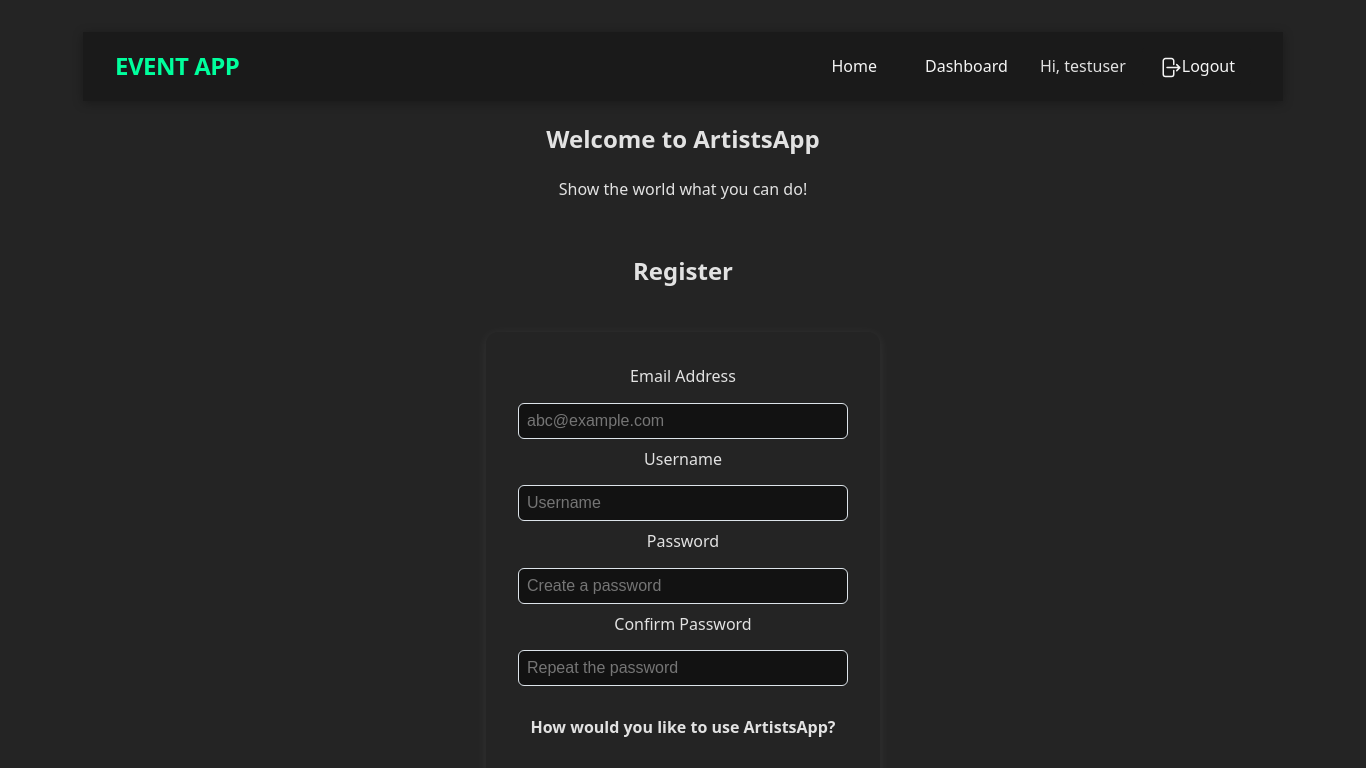
Register › write on input fields and fail register
Type on fields
Type "testuser@gmail.com" into the field with placeholder "abc@example.com" at [683, 421], box [518,403,848,439]
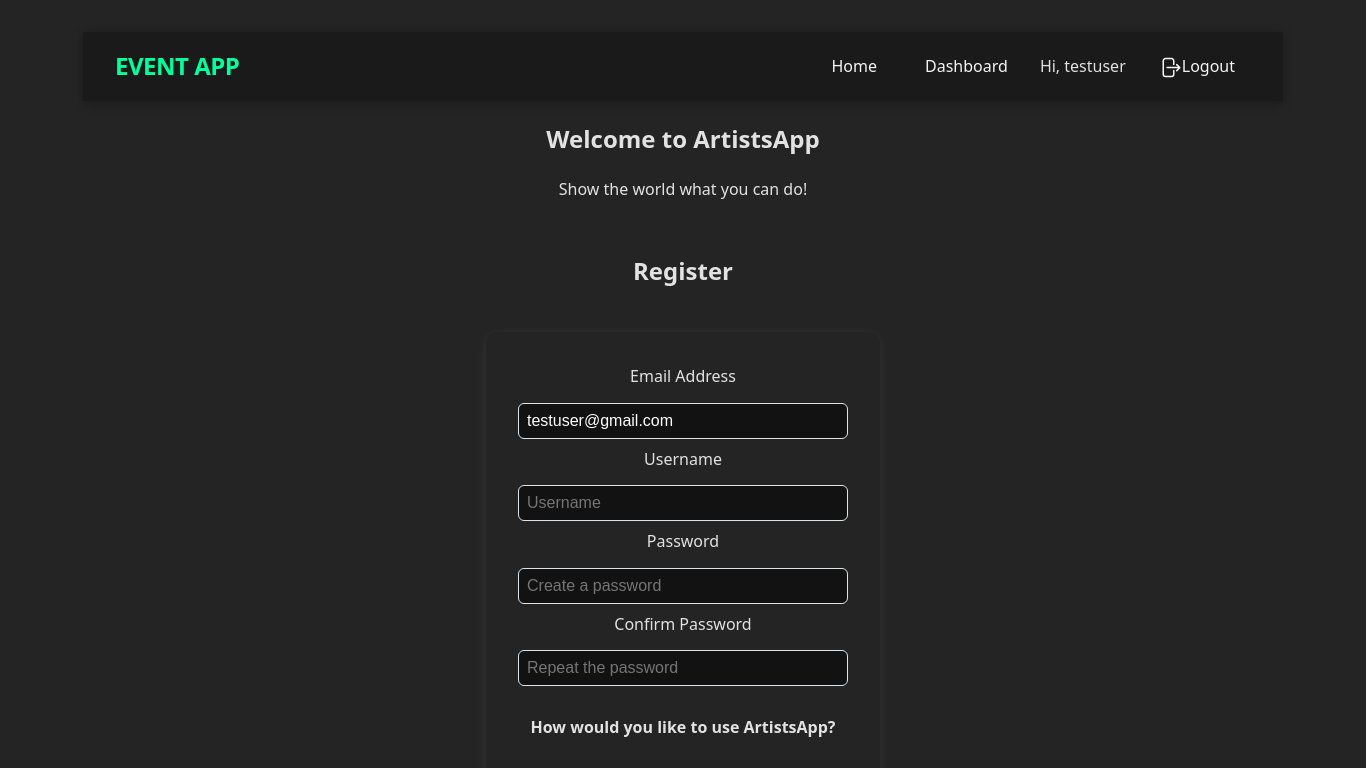
Type "testuser" into the field with placeholder "Username" at [683, 503], box [518,485,848,521]
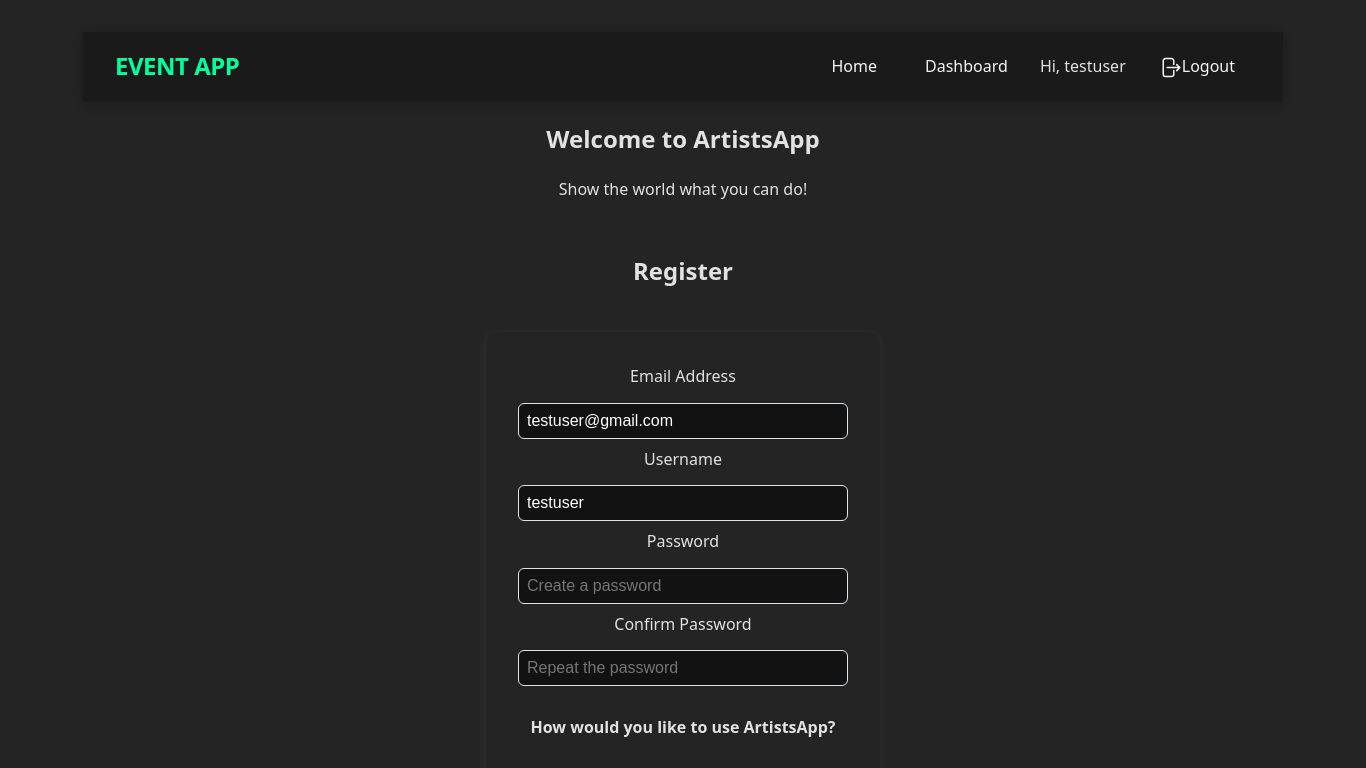
Type "1234" into the password field with placeholder "Create a password" at [683, 586], box [518,568,848,604]
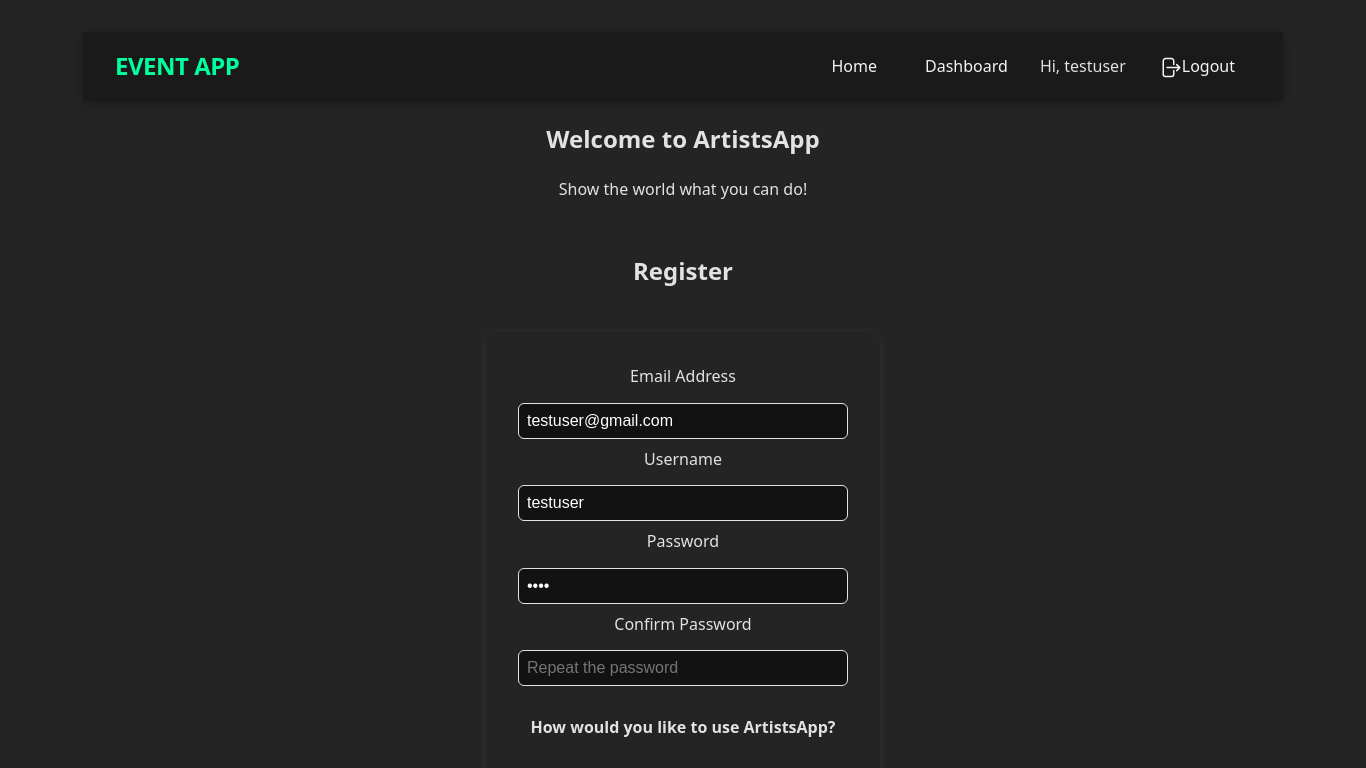
Type "1234" into the password field with placeholder "Repeat the password" at [683, 668], box [518,650,848,686]
(page scrolled)
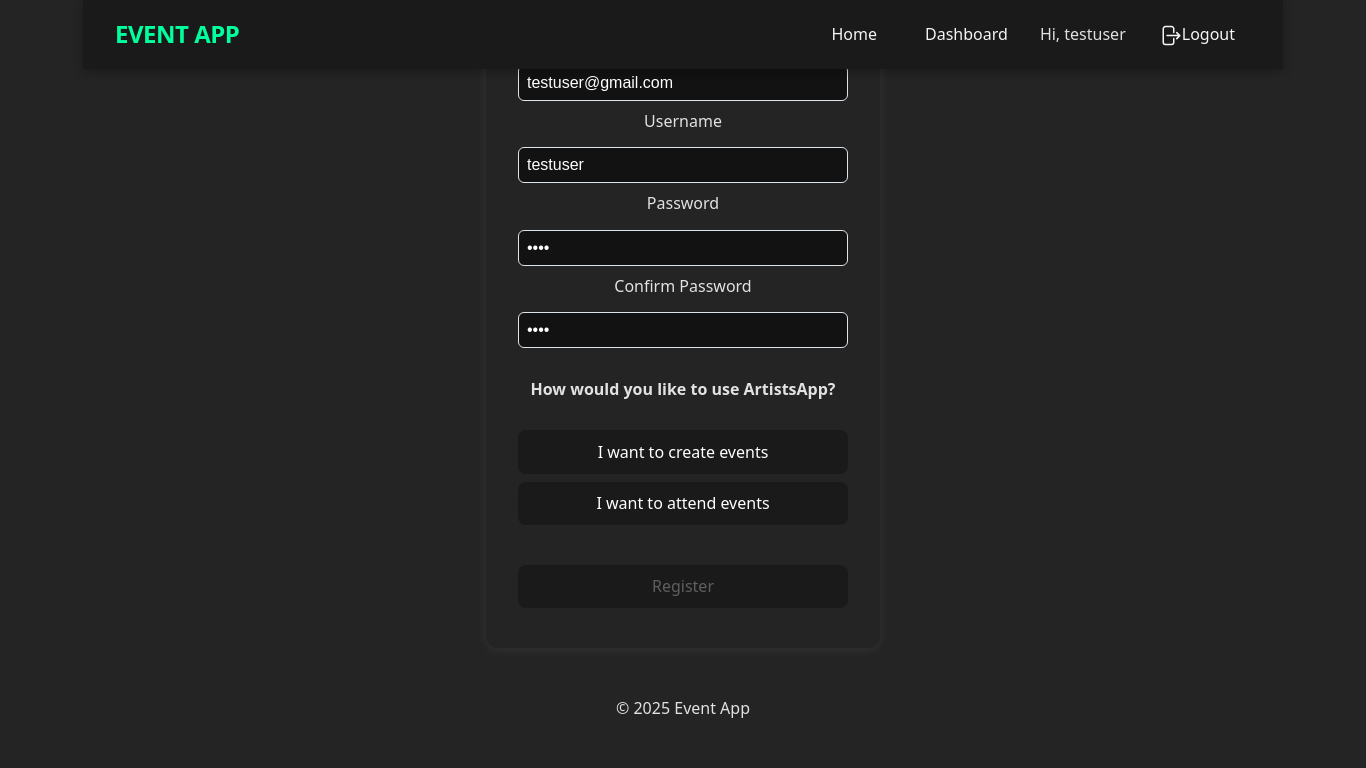
Click the button with aria-label "attendee" at [683, 503], box [518,482,848,525]
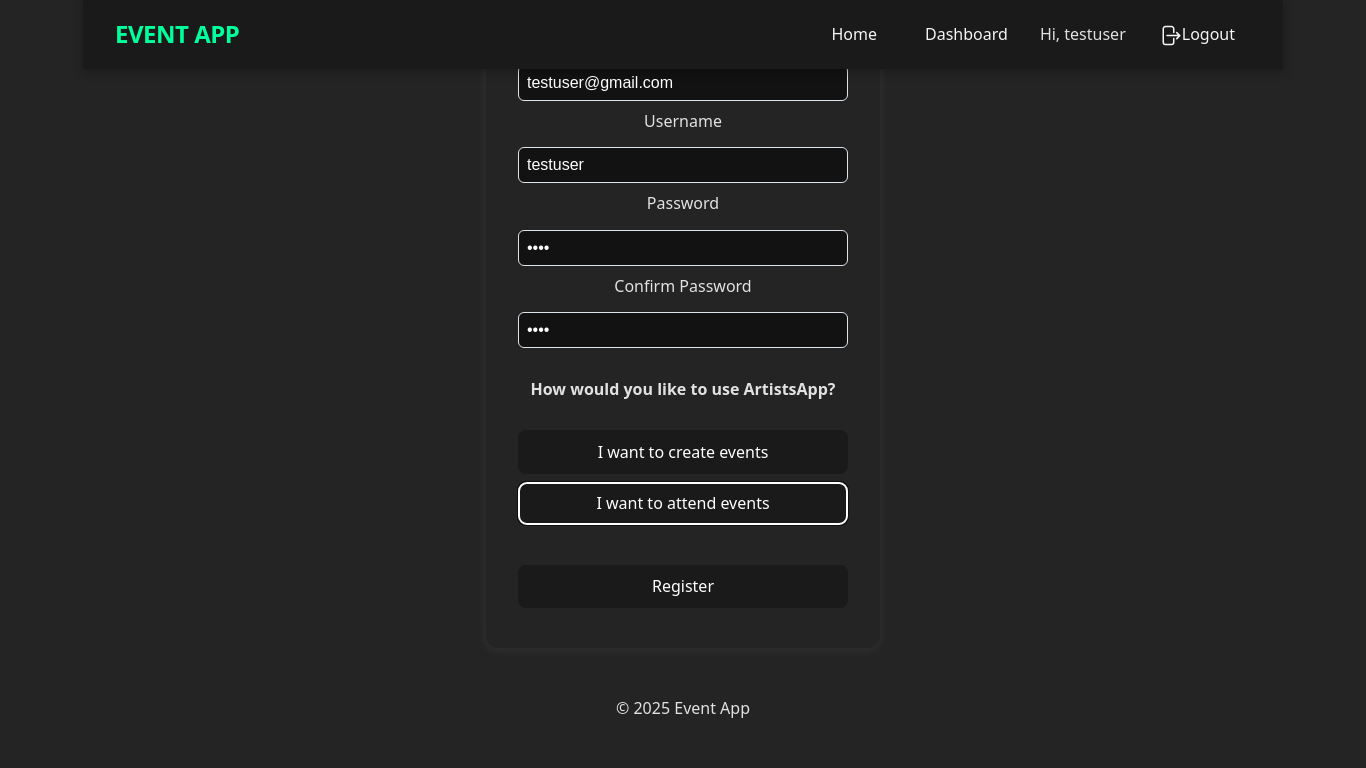
Check: the button "Register" is enabled
Click on register button
Click the button "Register" at [683, 586], box [518,565,848,608]
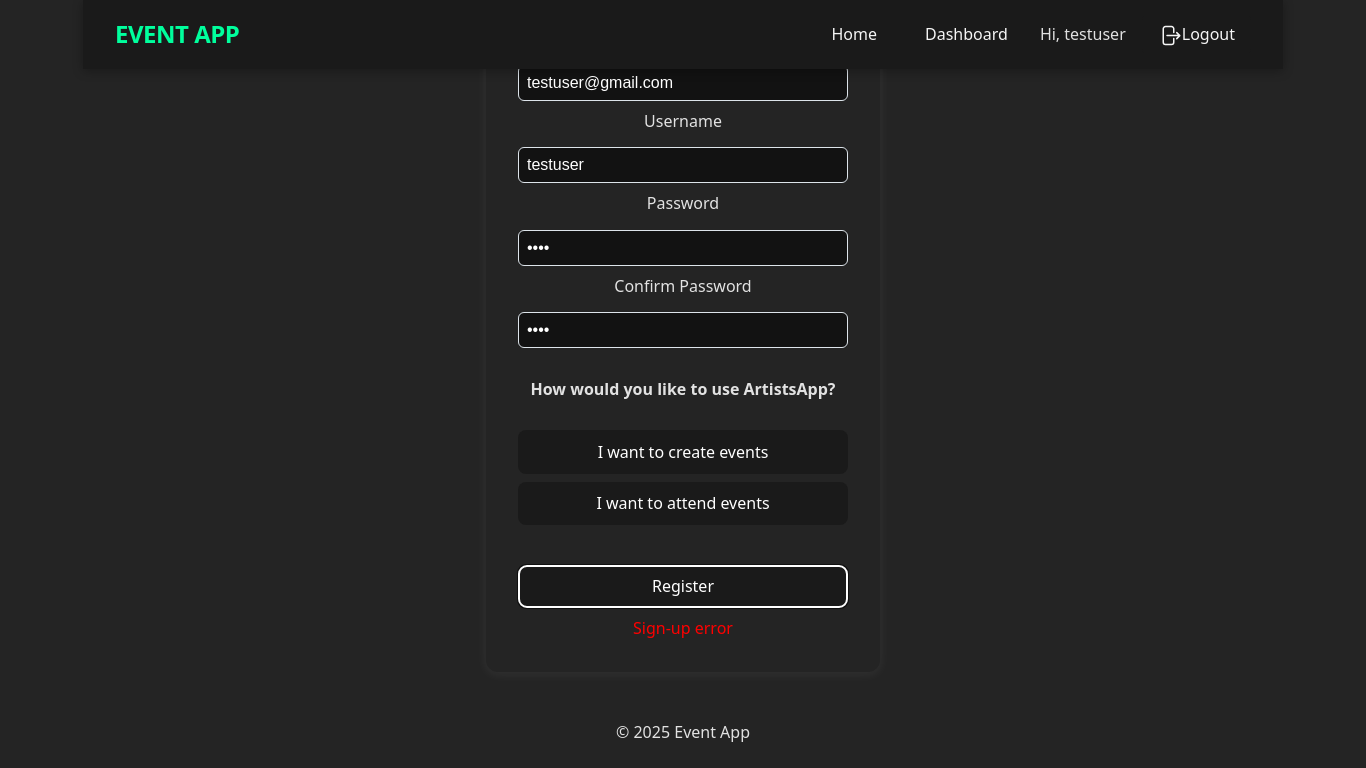
Check: the text with test id "error-message" reads "Sign-up error", box [633,617,733,639]
